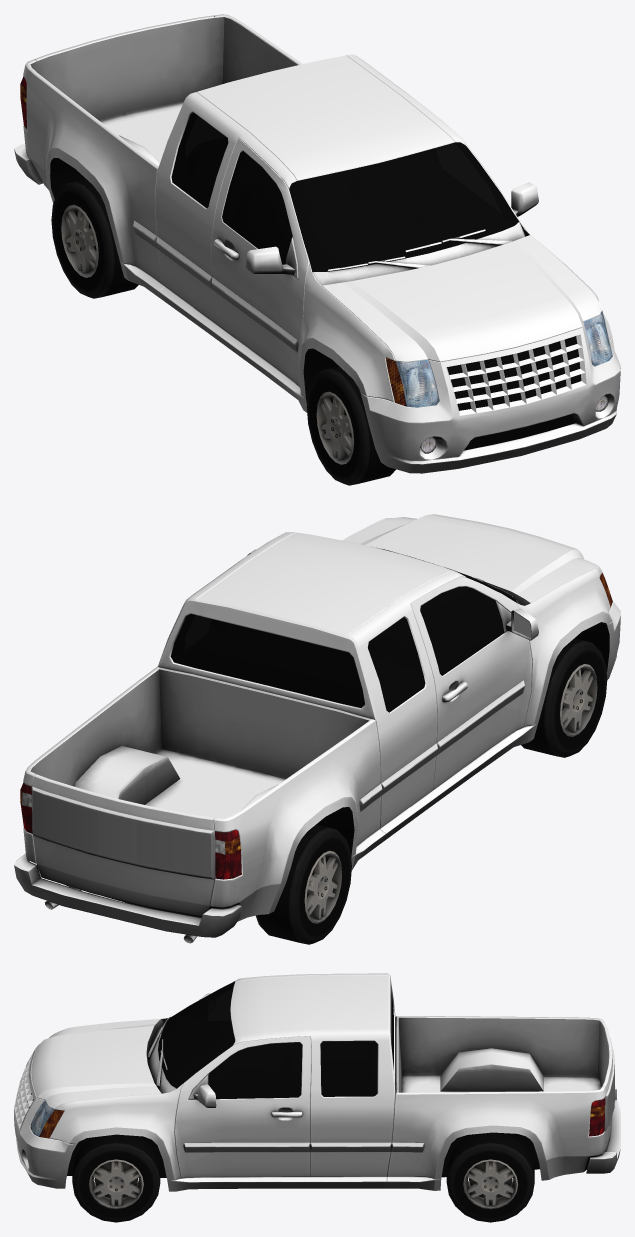
File: voiture_pickup.glb
The picture shows the model from 3 angles, top to bottom: view 1: azimuth 30°, elevation 25°; view 2: azimuth 150°, elevation 25°; view 3: azimuth 270°, elevation 25°; orthographic projection. The views are drawn at different scales.
Visible parts, largest first — view 1: body, wheel_fr, wheel_rr; view 2: body, wheel_rr, wheel_fr; view 3: body, wheel_rl, wheel_fl.
Boxes of the visible parts, bbox=[...] form: body: bbox=[14, 14, 620, 473]; wheel_fr: bbox=[306, 366, 395, 485]; wheel_rr: bbox=[51, 178, 138, 298]; body: bbox=[14, 514, 620, 943]; wheel_rr: bbox=[256, 824, 351, 944]; wheel_fr: bbox=[521, 638, 607, 757]; body: bbox=[14, 973, 620, 1191]; wheel_rl: bbox=[446, 1132, 534, 1222]; wheel_fl: bbox=[72, 1134, 160, 1222].
Bounding box in the file's own units: 2.08 × 1.7 × 5.2.
4 materials, 3 textured.
